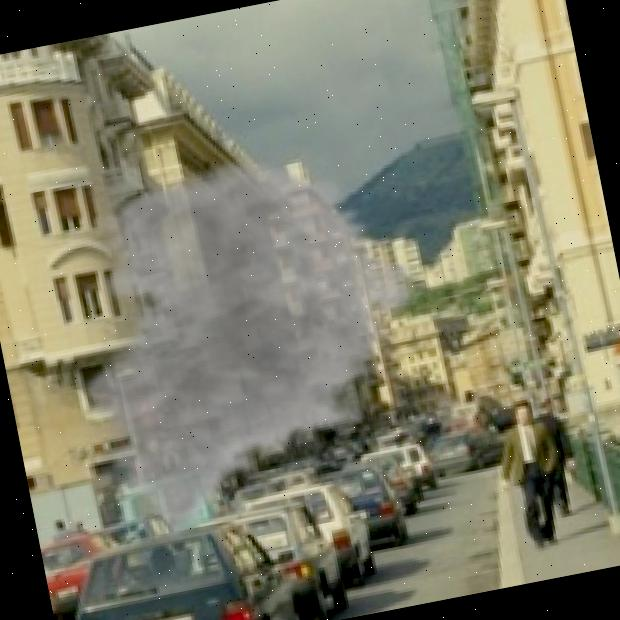smoke: (33, 125, 466, 557)
